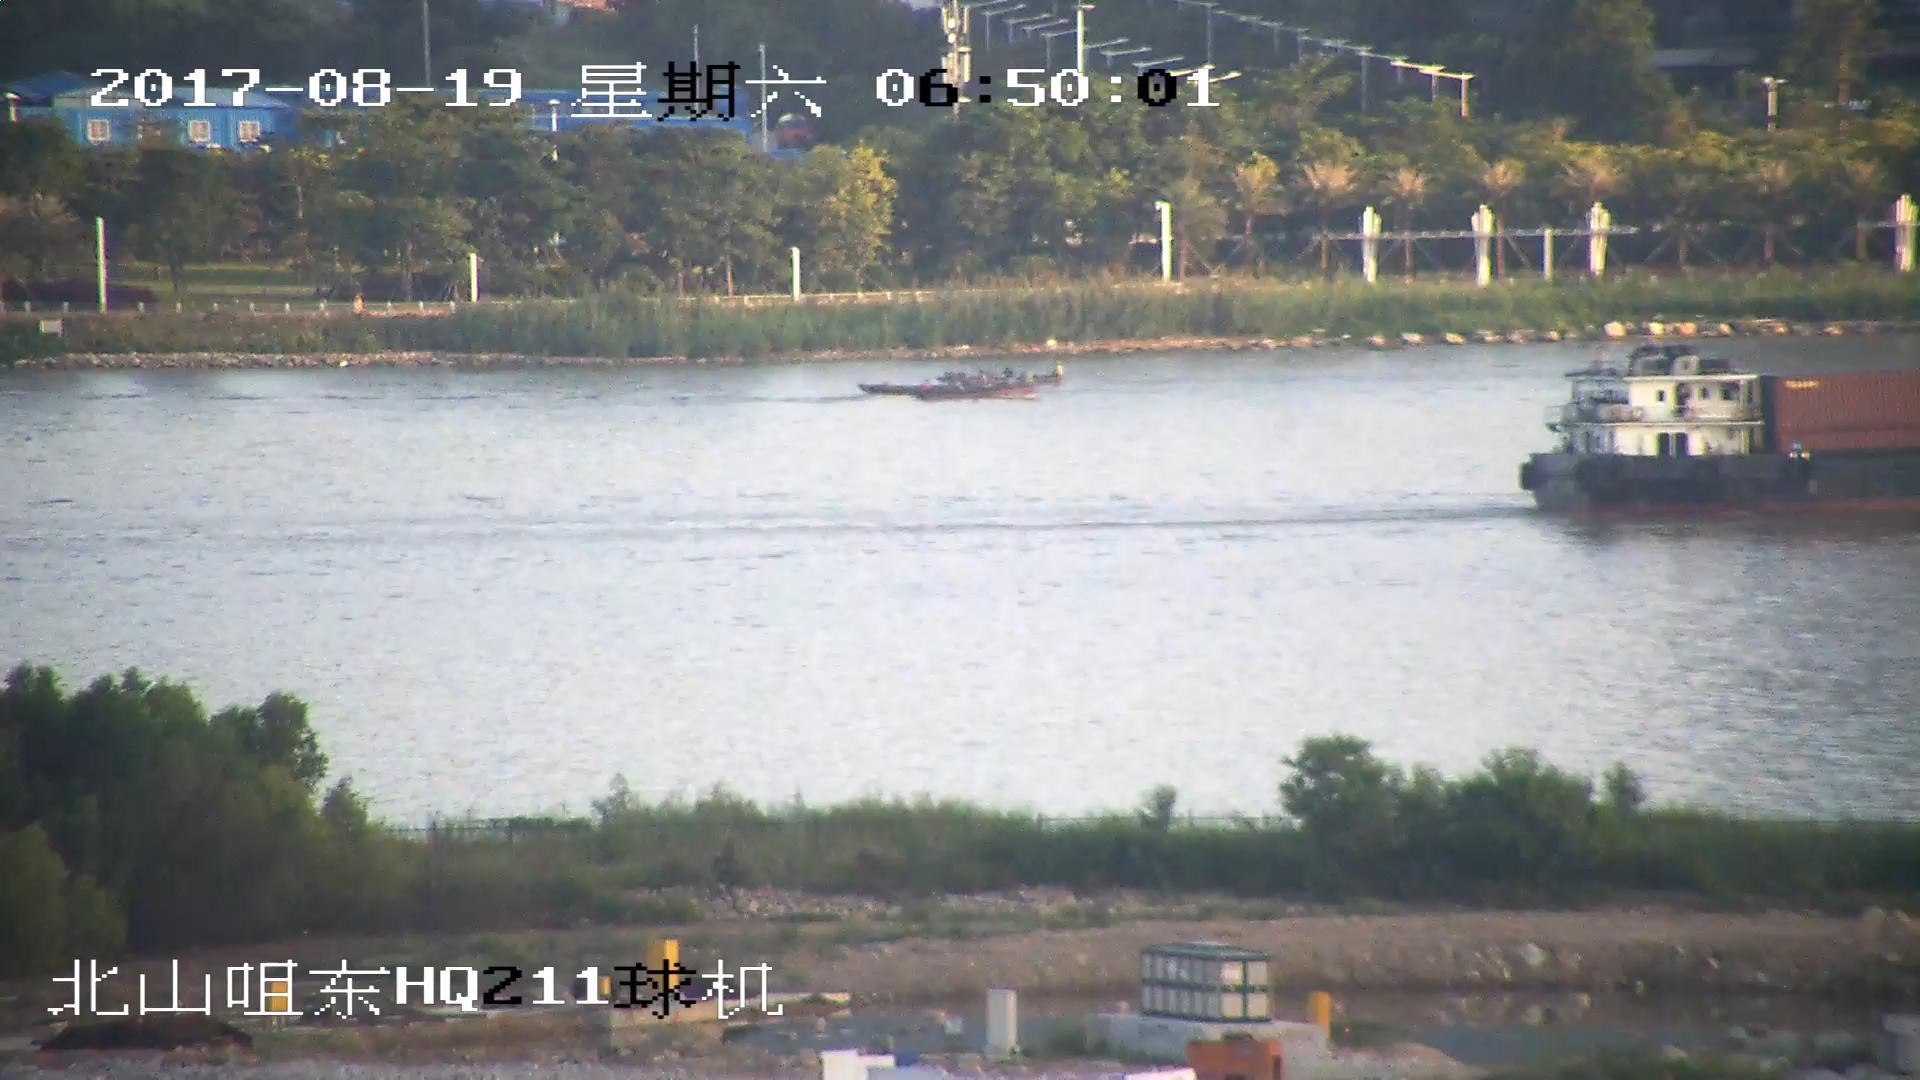Ship: (1513, 351, 1920, 517), (862, 361, 1067, 401)
